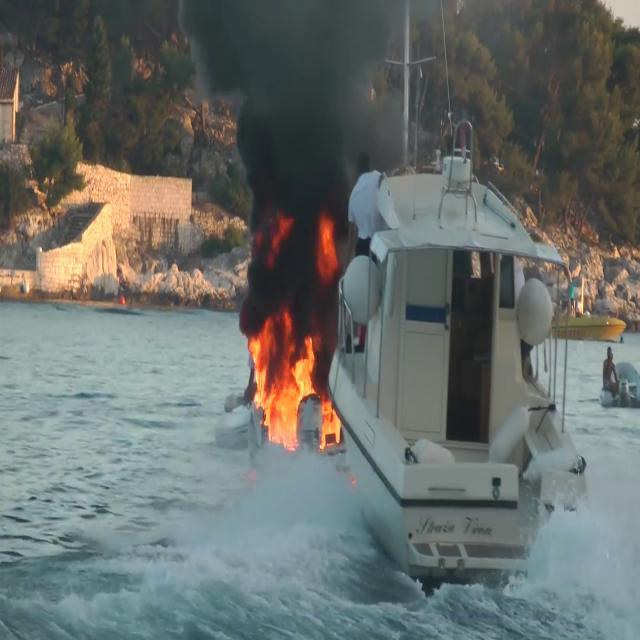Fire: (246, 307, 340, 449)
Smoke: (182, 1, 389, 312)
